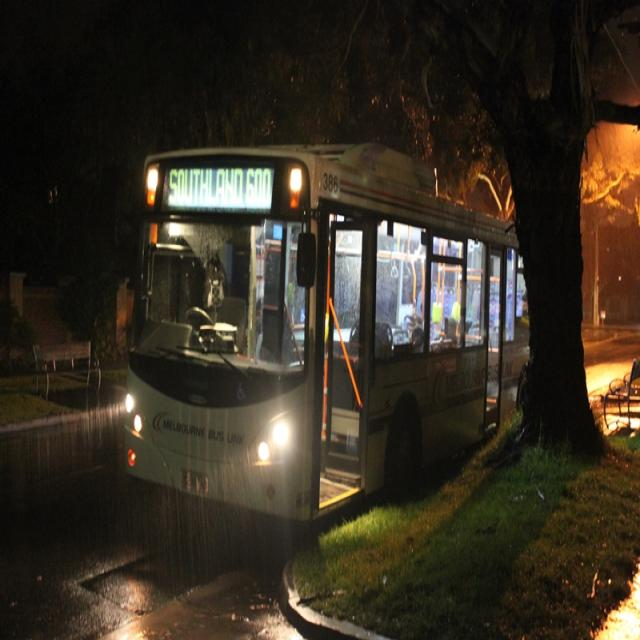Bus: (125, 95, 532, 581)
chair: (13, 244, 117, 441), (593, 338, 640, 451)
